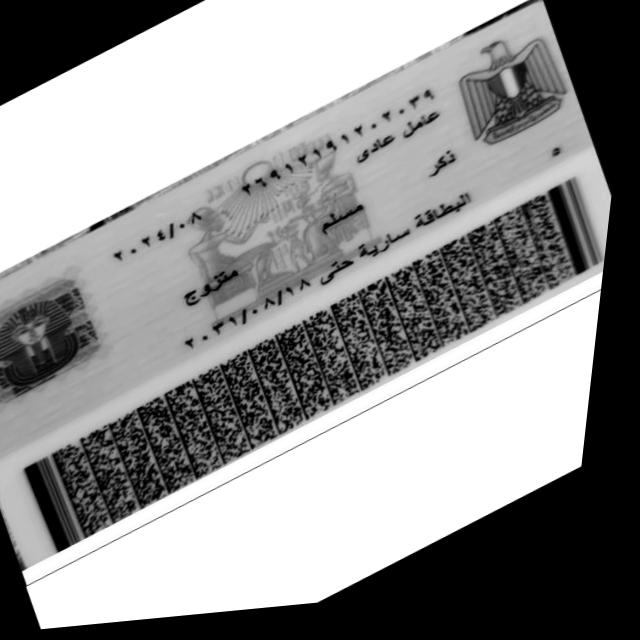id_card: (0, 6, 611, 566)
